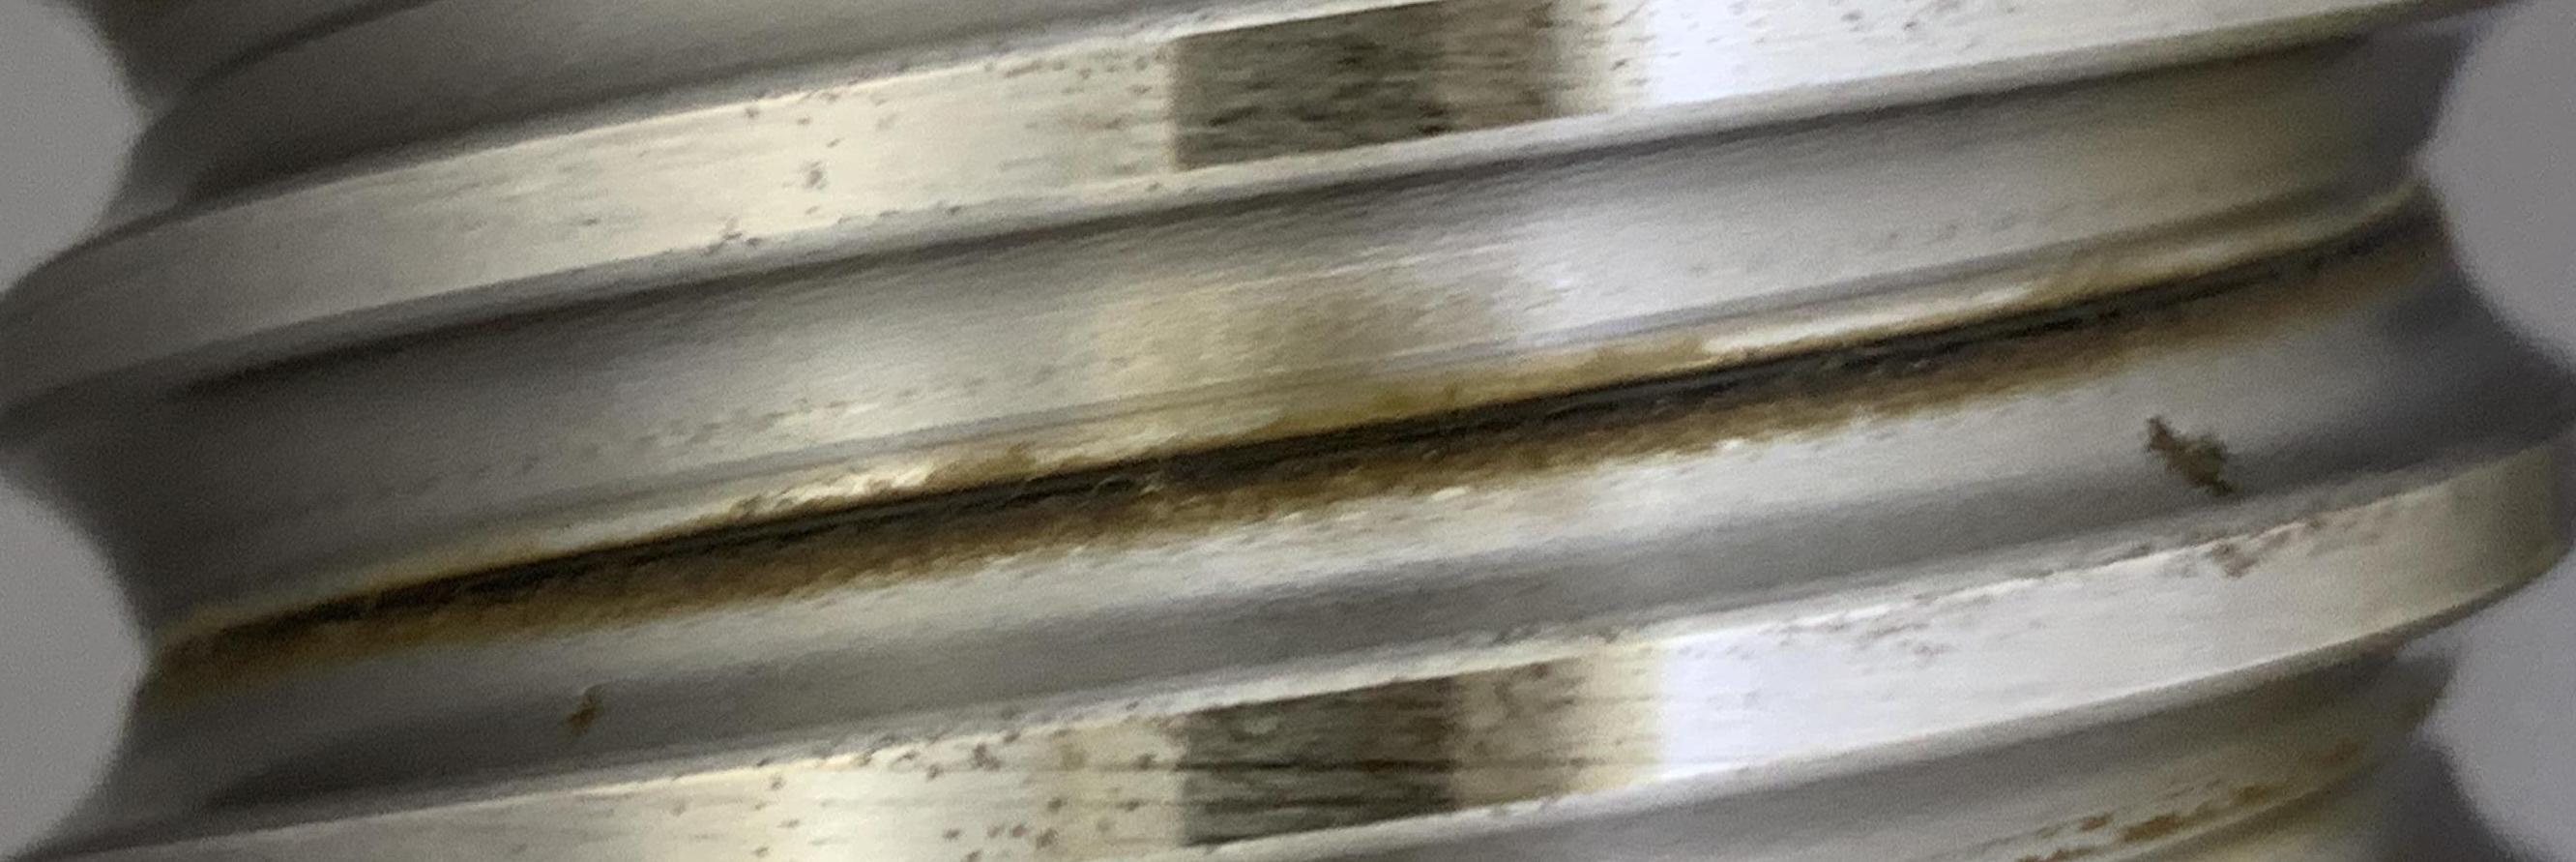pitting: (2146, 416, 2234, 495), (555, 683, 605, 739)
